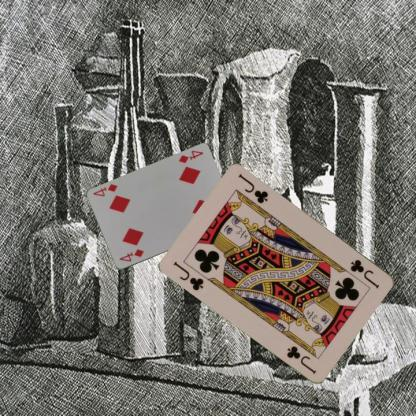4d: (176, 148, 204, 165), (117, 247, 145, 263)
Jc: (170, 258, 206, 292), (348, 256, 381, 290)
